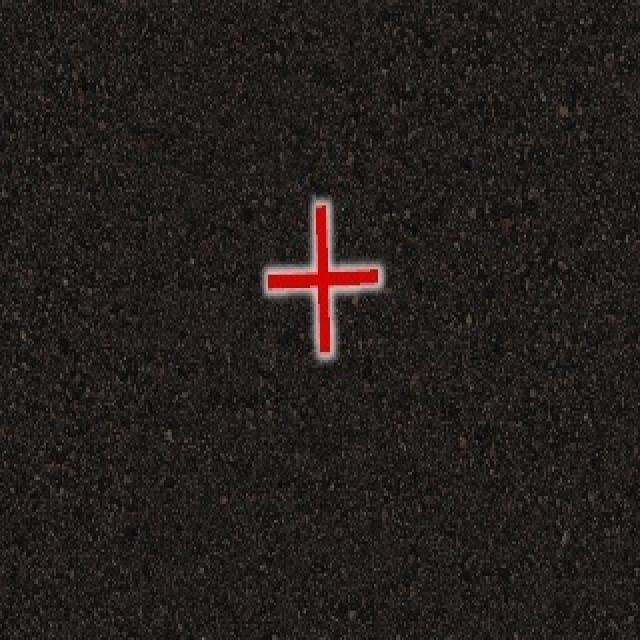x_marker: (267, 204, 379, 353)
